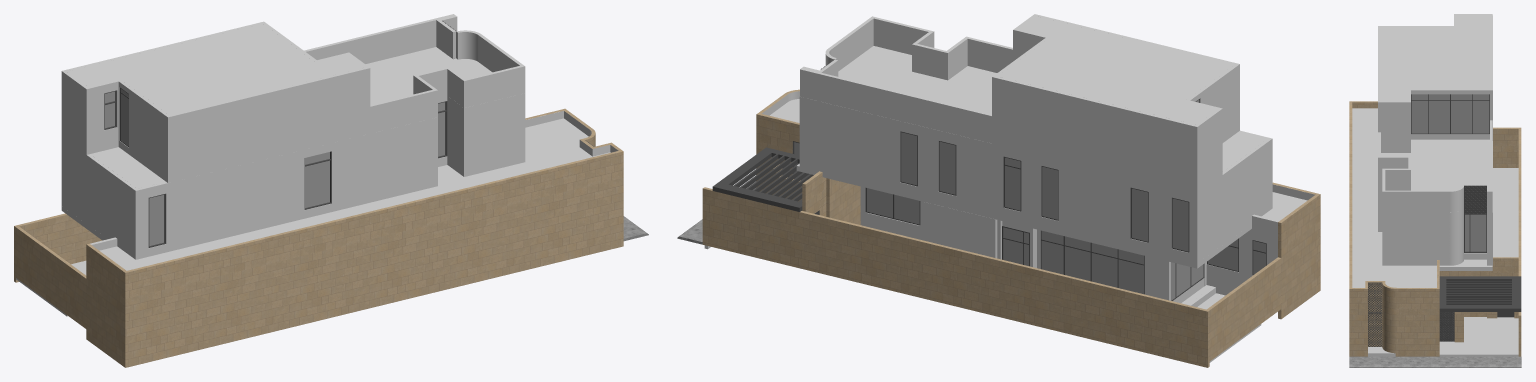
3 renders of one model, left to right at view 1: azimuth 30°, elevation 25°; view 2: azimuth 150°, elevation 25°; view 3: azimuth 270°, elevation 25°, orthographic. The views are drawn at different scales.
Parts seen in each view (by area): view 1: M_Concrete-Rectangular-Column C1 [467571], M_Concrete-Rectangular-Column C1 [471999], M_Concrete-Rectangular Beam DB 3 [463088], Line022, Basic Wall WALL 20 CM [322549]006, Line014, Line172, Basic Wall WALL 20 CM [373311], M_Concrete-Rectangular Beam DB 3 [443549], M_Concrete-Rectangular-Column C* [506299], System Panel Glazed [377344], System Panel Glazed [407885] (+2 smaller); view 2: M_Concrete-Rectangular-Column C* [506299], M_Concrete-Rectangular-Column C1 [471999], M_Concrete-Rectangular Beam DB 3 [463088], Line022, Basic Wall WALL 20 CM [322549]006, Basic Wall WALL 20 CM [308822], Line172, Basic Wall WALL 20 CM [373311], System Panel Glazed [364306], M_Concrete-Rectangular Beam DB 3 [443549], Walls 1 Walls 1 [345944], Line014 (+14 smaller); view 3: Line022, M_Concrete-Rectangular-Column C1 [467571], Line014, M_Concrete-Rectangular-Column C1 [471999], Box005, Line172, M_Concrete-Rectangular Beam DB 3 [463088], Basic Wall WALL 20 CM [322549]006, System Panel Glazed [388357], Walls 1 Walls 1 [345944], Structural Foundations 2 Structural Foundations 1 [581130]00, M_Concrete-Rectangular-Column C2 [470322] (+11 smaller).
Part boxes in pixels (x1,y1,x2,y2): M_Concrete-Rectangular-Column C1 [467571]: (123, 108, 623, 367); M_Concrete-Rectangular-Column C1 [471999]: (61, 58, 525, 259); M_Concrete-Rectangular Beam DB 3 [463088]: (61, 21, 370, 182); Line022: (67, 23, 364, 115); Basic Wall WALL 20 CM [322549]006: (304, 14, 525, 133); Line014: (61, 118, 610, 270); Line172: (90, 47, 492, 188); Basic Wall WALL 20 CM [373311]: (16, 226, 86, 328); M_Concrete-Rectangular Beam DB 3 [443549]: (86, 243, 126, 366); M_Concrete-Rectangular-Column C* [506299]: (14, 213, 101, 282); System Panel Glazed [377344]: (305, 152, 329, 207); System Panel Glazed [407885]: (149, 195, 164, 245); M_Concrete-Rectangular-Column C* [506299]: (702, 187, 1209, 367); M_Concrete-Rectangular-Column C1 [471999]: (799, 96, 1272, 263); M_Concrete-Rectangular Beam DB 3 [463088]: (992, 14, 1239, 200); Line022: (997, 16, 1234, 124); Basic Wall WALL 20 CM [322549]006: (800, 16, 1012, 143); Basic Wall WALL 20 CM [308822]: (860, 186, 1279, 303); Line172: (838, 46, 1266, 171); Basic Wall WALL 20 CM [373311]: (1207, 257, 1281, 360); System Panel Glazed [364306]: (1041, 231, 1143, 294); M_Concrete-Rectangular Beam DB 3 [443549]: (1278, 195, 1318, 319); Walls 1 Walls 1 [345944]: (712, 147, 813, 211); Line014: (770, 99, 1307, 268); Line022: (1381, 15, 1489, 101); M_Concrete-Rectangular-Column C1 [467571]: (1349, 101, 1439, 356); Line014: (1352, 108, 1492, 287); M_Concrete-Rectangular-Column C1 [471999]: (1378, 141, 1492, 265); Box005: (1439, 168, 1518, 353); Line172: (1381, 139, 1489, 190); M_Concrete-Rectangular Beam DB 3 [463088]: (1378, 14, 1492, 152); Basic Wall WALL 20 CM [322549]006: (1378, 120, 1492, 212); System Panel Glazed [388357]: (1411, 94, 1489, 133); Walls 1 Walls 1 [345944]: (1439, 276, 1521, 311); Structural Foundations 2 Structural Foundations 1 [581130]00: (1349, 356, 1521, 367); M_Concrete-Rectangular-Column C2 [470322]: (1439, 257, 1518, 318).
Bounding box in the file's own units: 32.57 × 13.2 × 12.
Materials: 5 (2 with a texture image).
